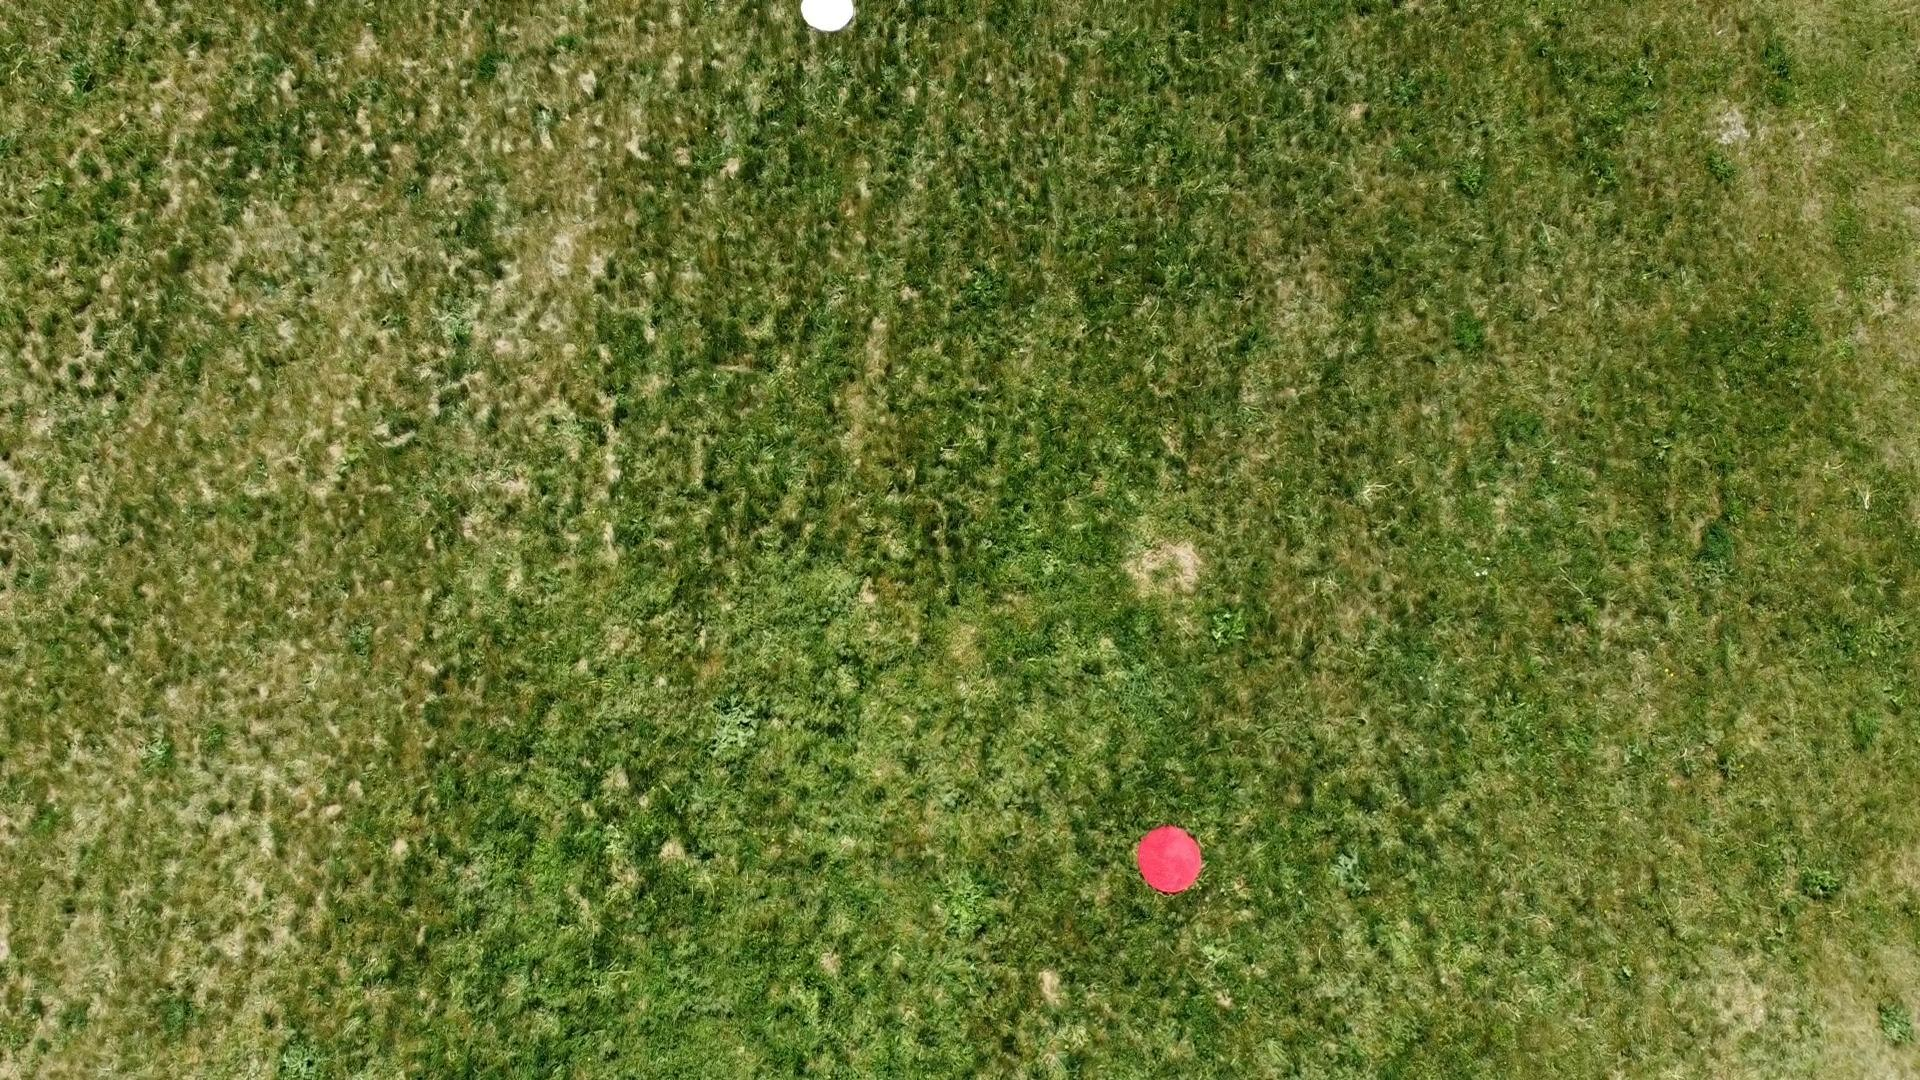Red: (1135, 822, 1208, 897)
Unknown: (794, 0, 861, 37)
